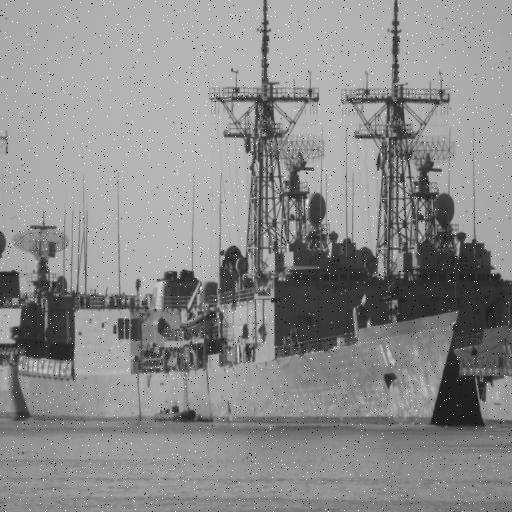Fragata: (12, 1, 483, 436)
